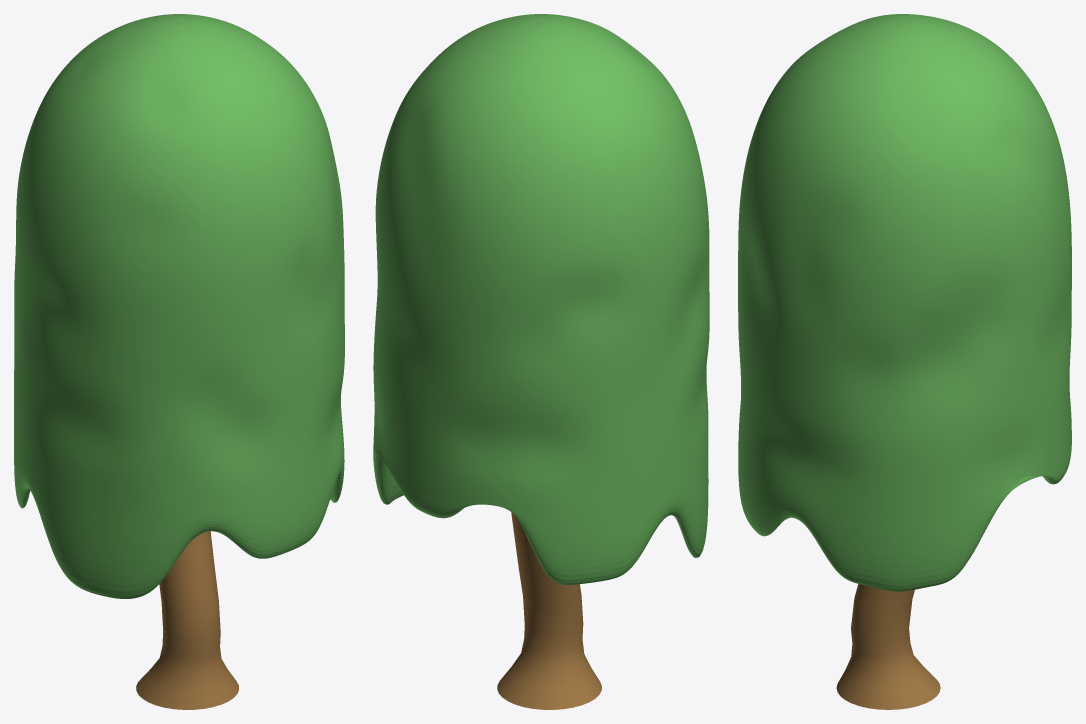
The model's file is tree2.fbx.
The picture shows the model from 3 angles, left to right: view 1: azimuth 30°, elevation 25°; view 2: azimuth 150°, elevation 25°; view 3: azimuth 270°, elevation 25°; orthographic projection.
Parts seen in each view (by area): view 1: tree.005, less curvy.003; view 2: tree.005, less curvy.003; view 3: tree.005, less curvy.003.
Part boxes in pixels (x1,y1,x2,y2): tree.005: (14, 14, 344, 598); less curvy.003: (136, 531, 238, 709); tree.005: (373, 14, 709, 584); less curvy.003: (497, 512, 601, 709); tree.005: (738, 14, 1071, 591); less curvy.003: (836, 584, 940, 709).
Bounding box in the file's own units: 178 × 389 × 178.
